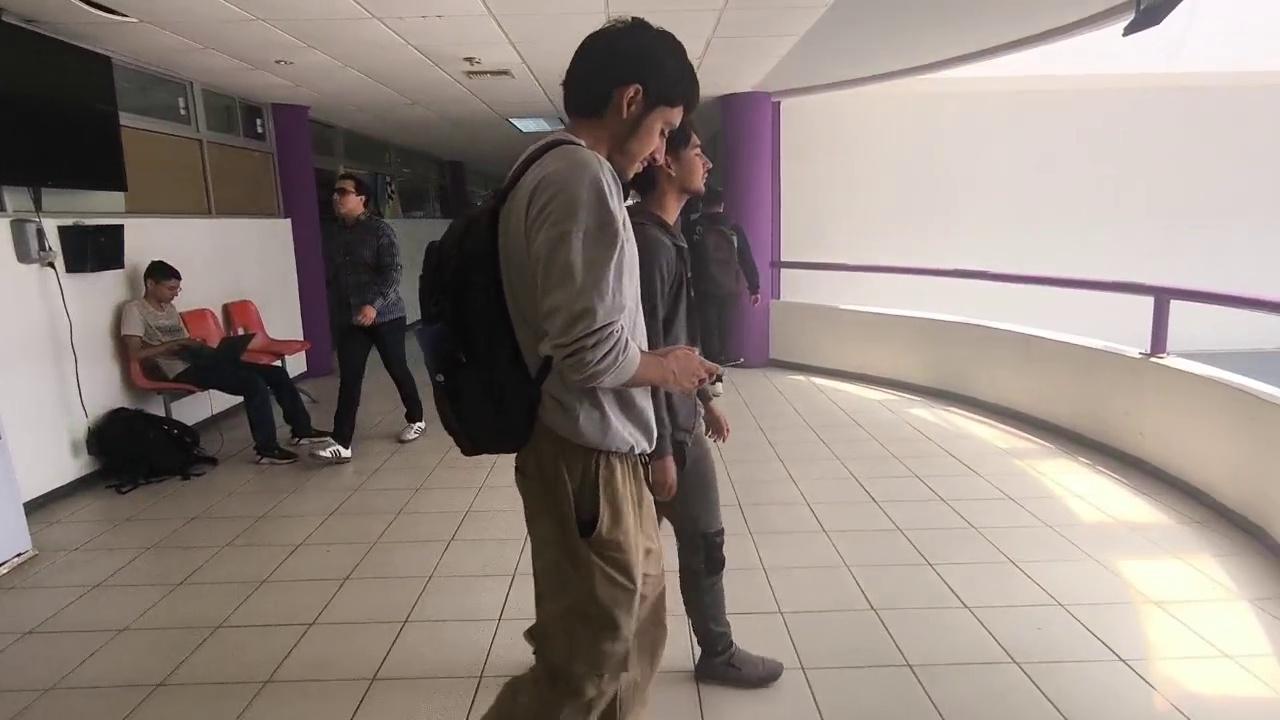mixto2: (701, 346, 752, 371)
